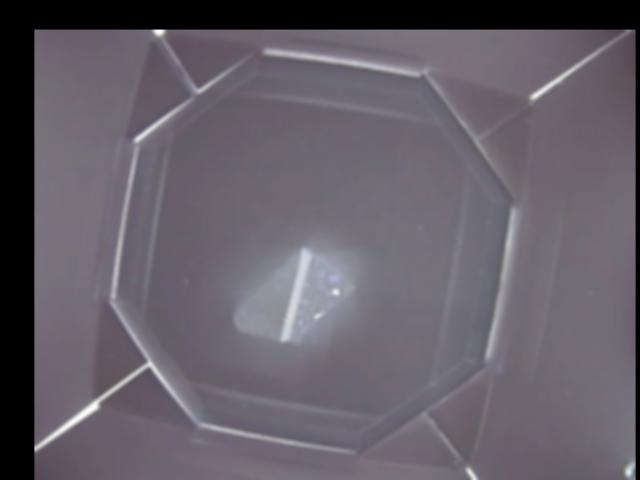China: (235, 246, 353, 343)
